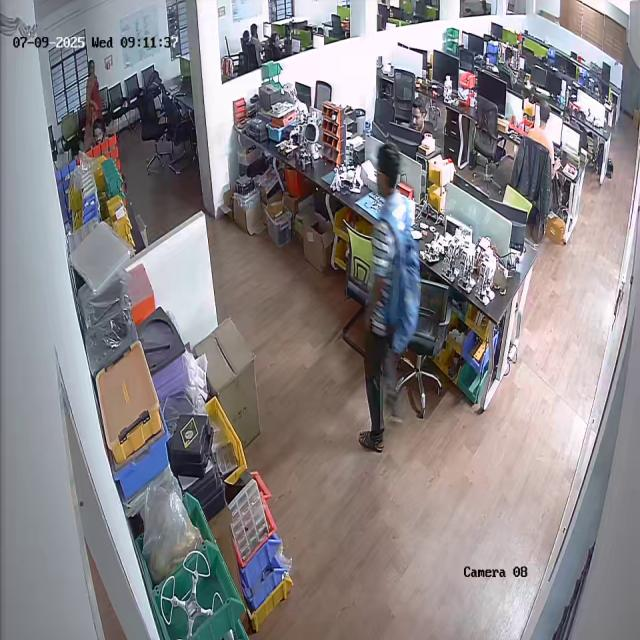person: (342, 144, 420, 452)
